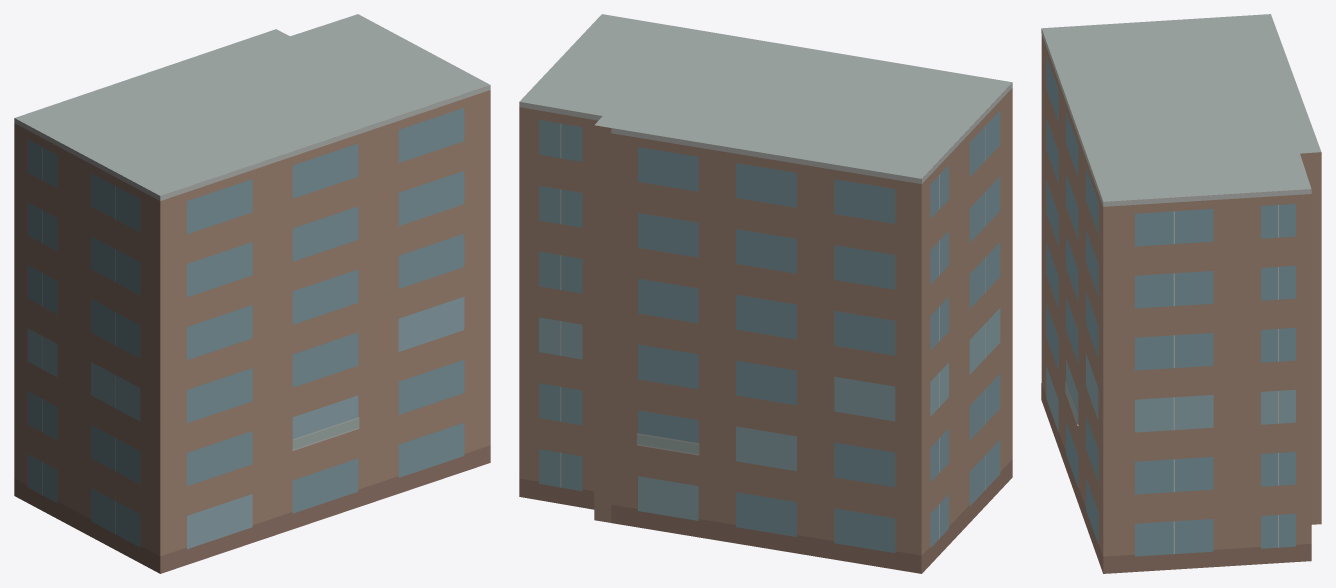
Rendered from survey-upis-32576673.glb.
3 renders of one model, left to right at view 1: azimuth 30°, elevation 25°; view 2: azimuth 150°, elevation 25°; view 3: azimuth 270°, elevation 25°, orthographic. The views are drawn at different scales.
Parts seen in each view (by area): view 1: survey-upis-32576673.tmp; view 2: survey-upis-32576673.tmp; view 3: survey-upis-32576673.tmp.
Boxes of the visible parts, x1,y1,x2,y2 form: survey-upis-32576673.tmp: [14, 14, 490, 573]; survey-upis-32576673.tmp: [519, 14, 1012, 573]; survey-upis-32576673.tmp: [1041, 14, 1321, 573].
Bounding box in the file's own units: 19.83 × 18.3 × 12.48.
